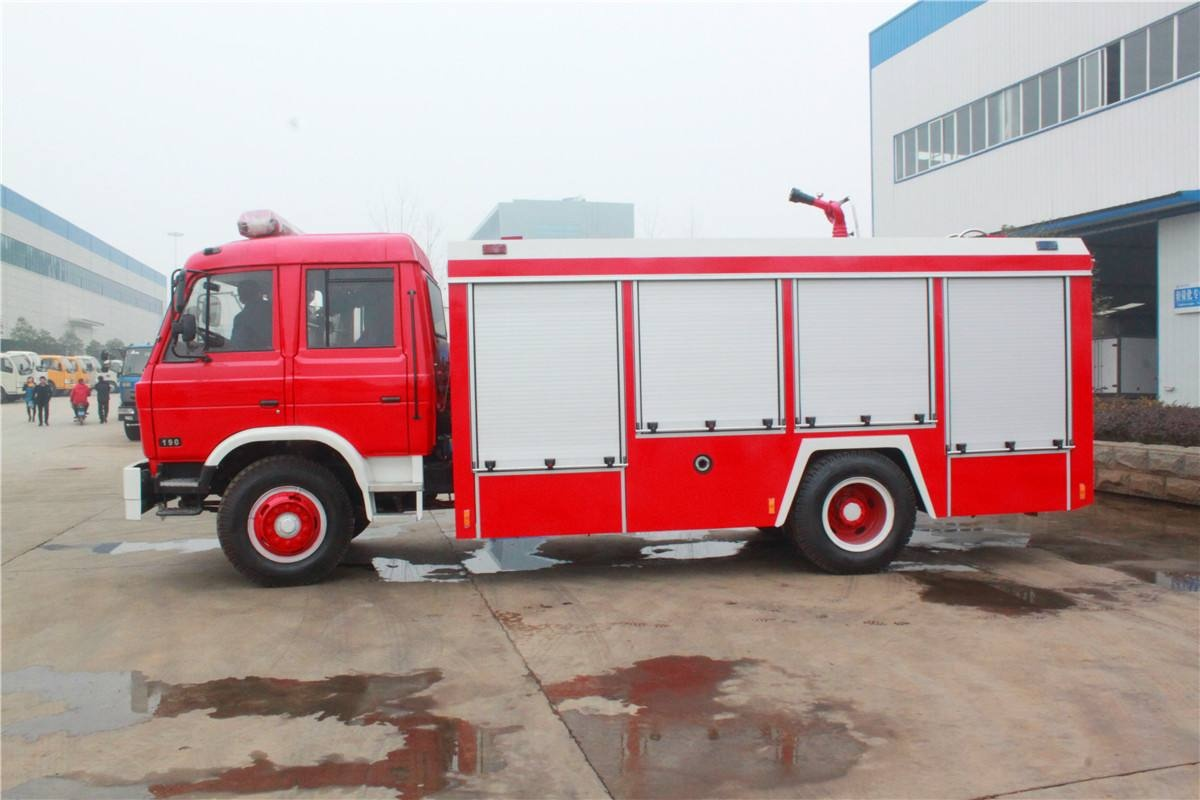fire engine: (103, 207, 1112, 575)
